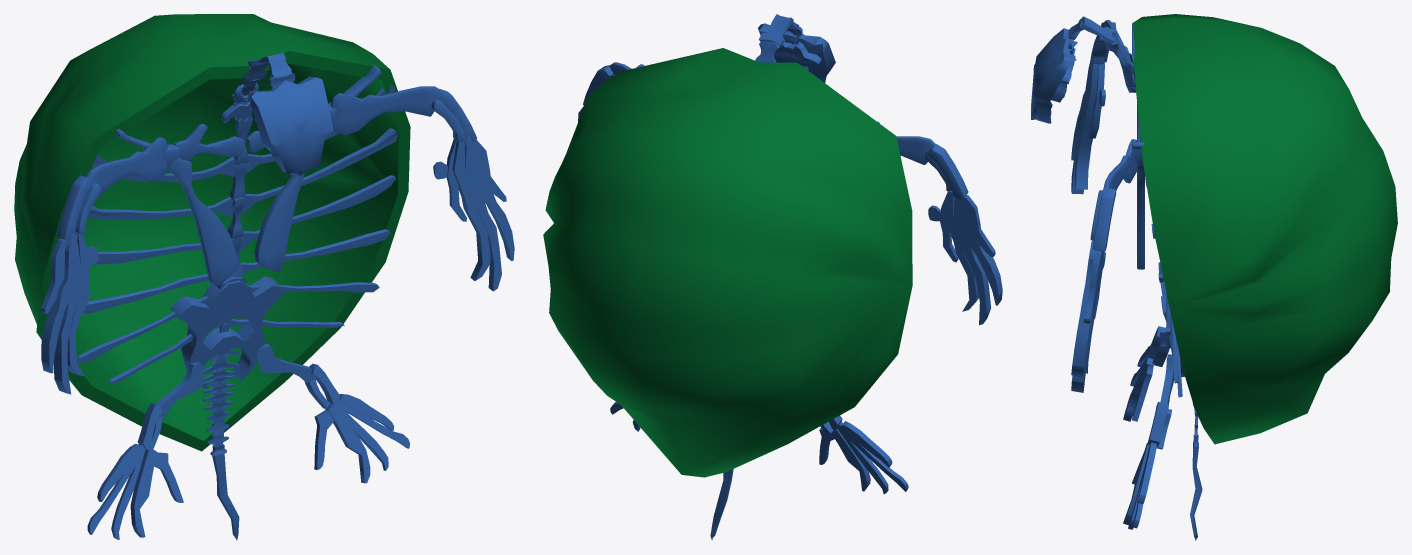
File: Turtle_Skeleton.fbx
The picture shows the model from 3 angles, left to right: view 1: azimuth 30°, elevation 25°; view 2: azimuth 150°, elevation 25°; view 3: azimuth 270°, elevation 25°; orthographic projection. The views are drawn at different scales.
Parts seen in each view (by area): view 1: Shell, Coxis, Box034, Box072, Arm_Bone001, Box064, Arm_Bone002, Finger015, Finger009, Finger012, Finger007, Box069 (+31 smaller); view 2: Shell, Finger012, Box034, Finger015, Box073, Finger014, Finger016, Box032, Arm_Bone002, Finger013, Box081, TFinger004 (+4 smaller); view 3: Shell, Box034, Finger014, Finger010, Box060, Box064, Arm_Bone001, Finger011, Tail_Bone, Finger013, Arm_Bone002, Box058 (+6 smaller).
Part boxes in pixels (box(x1,y1,x2,y2)): Shell: box(14, 14, 410, 451); Coxis: box(170, 276, 284, 388); Box034: box(248, 76, 332, 176); Box072: box(167, 157, 237, 286); Arm_Bone001: box(331, 86, 445, 135); Box064: box(254, 172, 304, 271); Arm_Bone002: box(86, 137, 167, 197); Finger015: box(41, 233, 77, 373); Finger009: box(452, 140, 490, 280); Finger012: box(54, 240, 81, 394); Finger007: box(465, 145, 501, 291); Box069: box(241, 128, 397, 213); Shell: box(543, 48, 912, 477); Finger012: box(953, 198, 991, 325); Box034: box(758, 23, 835, 82); Finger015: box(954, 197, 1002, 305); Box073: box(927, 144, 968, 199); Finger014: box(948, 191, 978, 311); Finger016: box(957, 195, 995, 256); Box032: box(774, 41, 821, 70); Arm_Bone002: box(896, 136, 935, 164); Finger013: box(939, 192, 958, 262); Box081: box(840, 421, 892, 467); TFinger004: box(831, 428, 870, 491); Shell: box(1133, 14, 1397, 444); Box034: box(1031, 28, 1077, 123); Finger014: box(1075, 61, 1104, 189); Finger010: box(1071, 241, 1102, 377); Box060: box(1092, 187, 1116, 251); Box064: box(1137, 165, 1144, 269); Arm_Bone001: box(1103, 139, 1137, 191); Finger011: box(1083, 250, 1101, 323); Tail_Bone: box(1190, 442, 1202, 540); Finger013: box(1088, 63, 1104, 138); Arm_Bone002: box(1102, 20, 1136, 92); Box058: box(1147, 402, 1168, 447).
Size of the model in its own units: 327 by 356 by 232.
